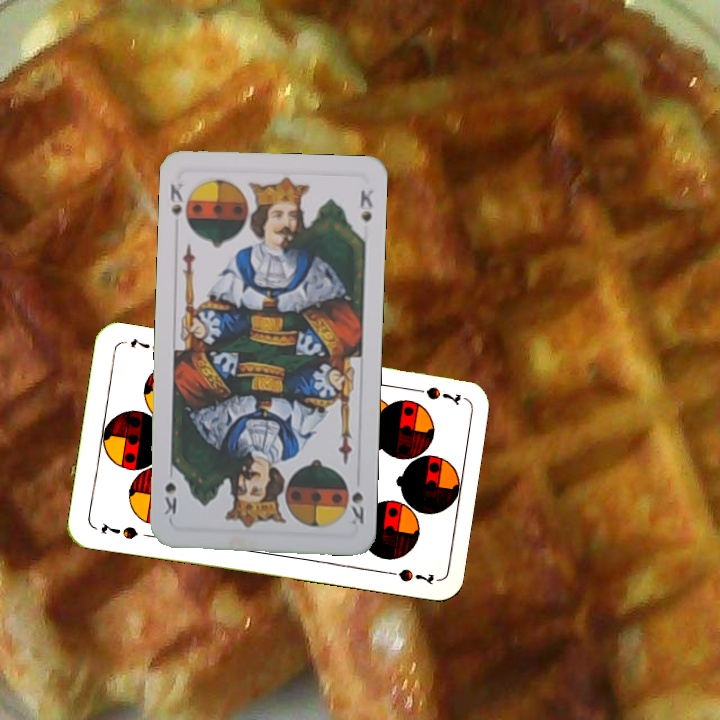S7: (406, 382, 463, 408), (96, 518, 140, 542)
SK: (341, 474, 367, 529), (166, 179, 193, 230)
